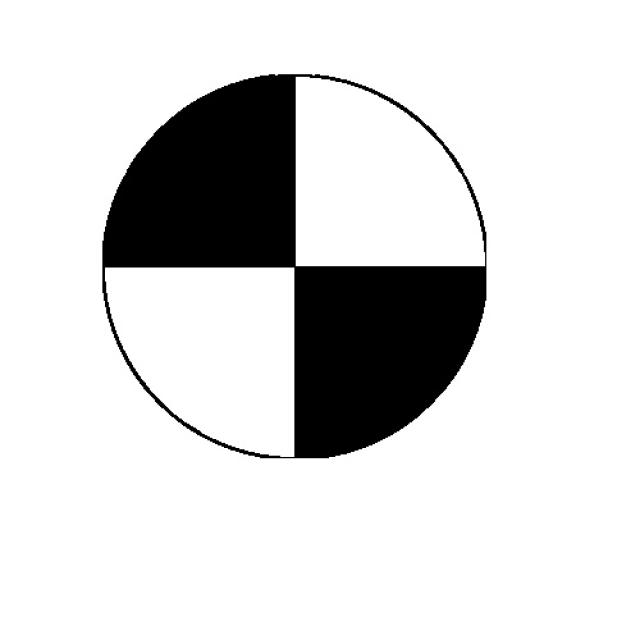Marcadores: (103, 74, 489, 461)
